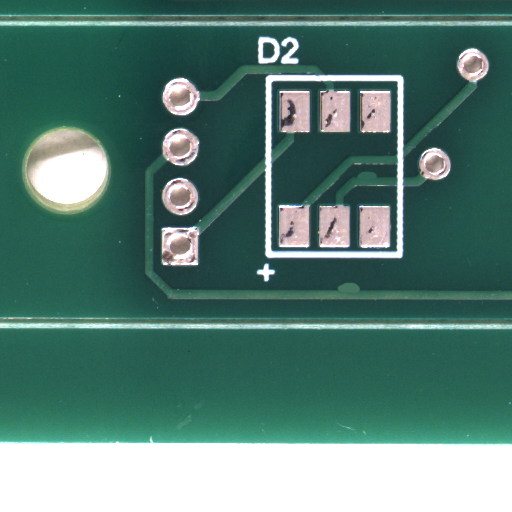Spur: (346, 287, 375, 301), (366, 175, 393, 186)
